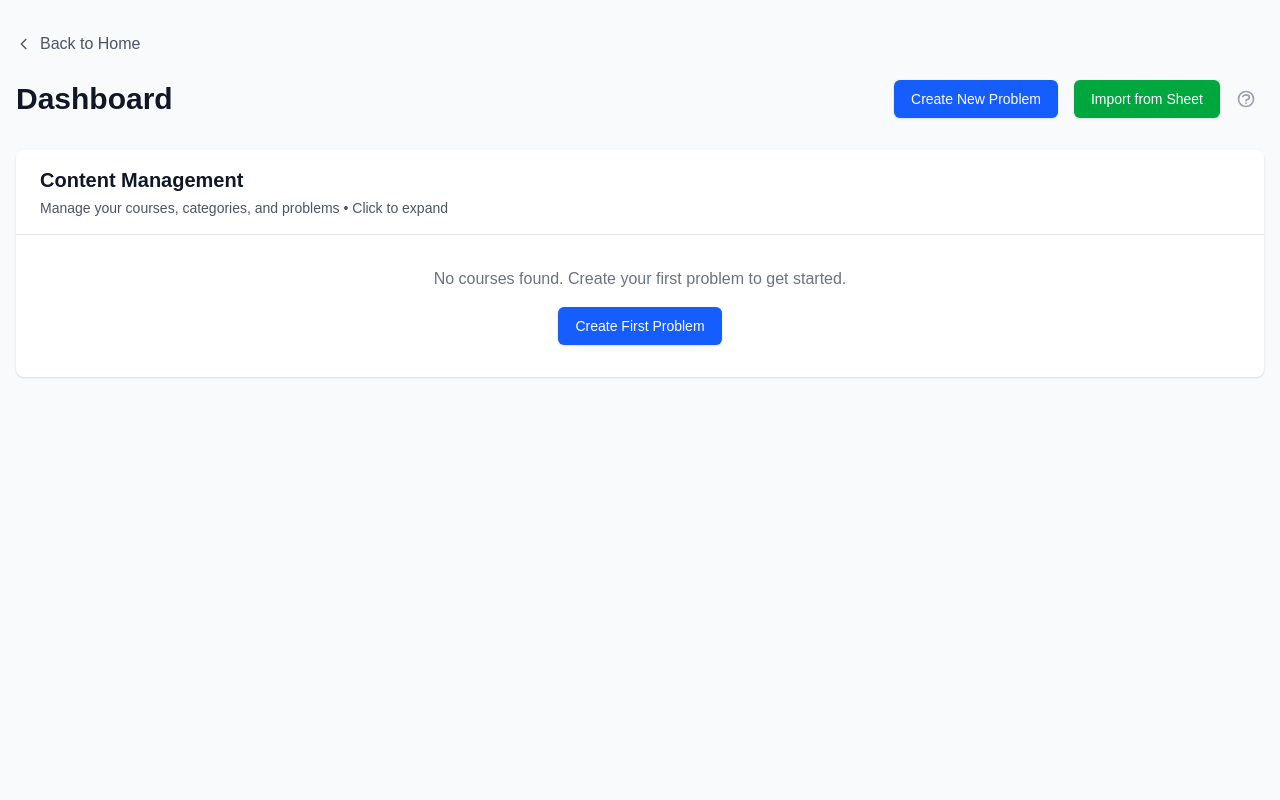
it: TeacherClient › shows import modal with errors
Step 1. Click the button "Import from Sheet" → (1147, 99), box [1074, 80, 1220, 118]
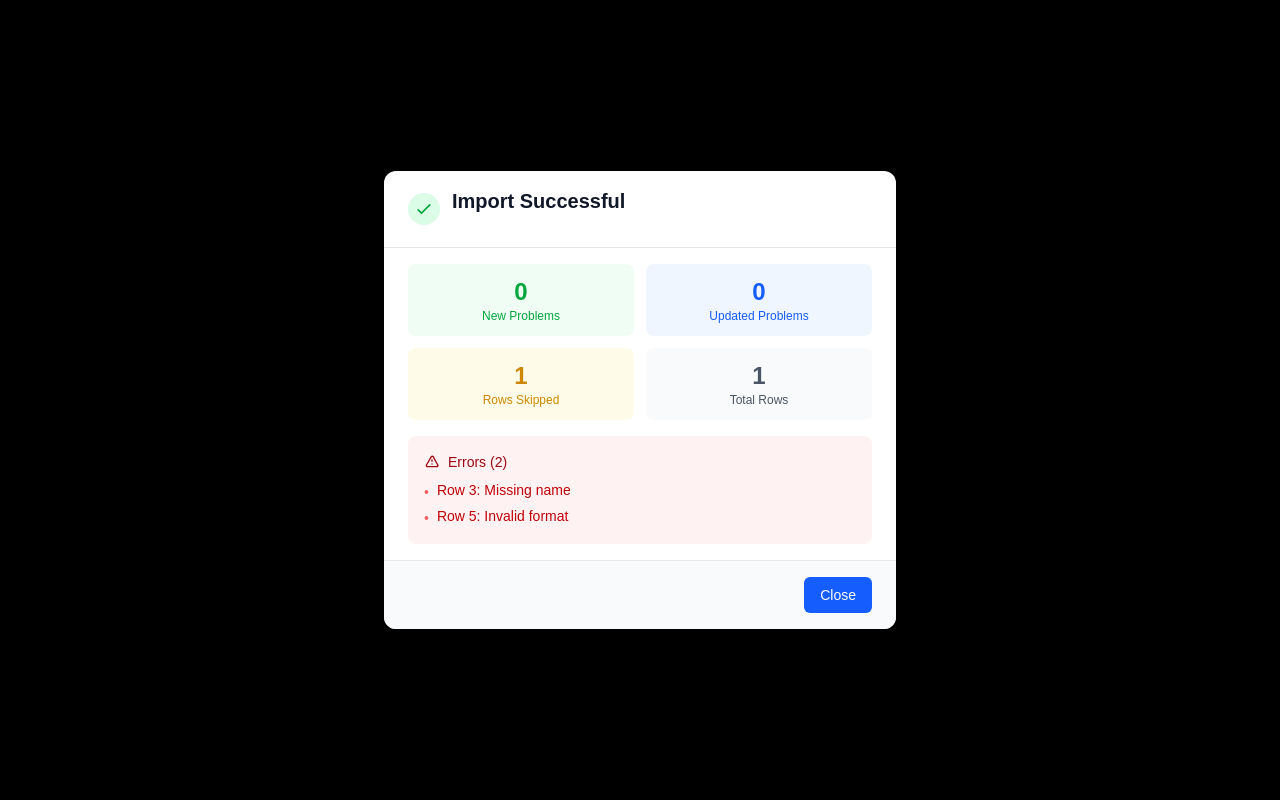
Result: the heading "Errors (2)" is shown at [424, 454, 507, 470]
Result: the text "Row 3: Missing name" is shown at [437, 480, 571, 500]
Result: the text "Row 5: Invalid format" is shown at [437, 506, 568, 526]
